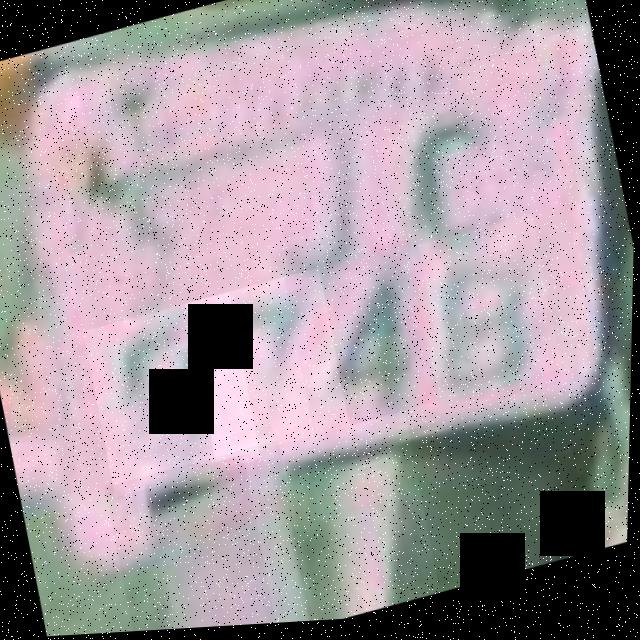4: (281, 240, 452, 440)
7: (242, 414, 445, 628), (104, 442, 319, 635), (82, 293, 265, 500), (184, 269, 354, 466)
8: (409, 219, 567, 409)
A: (298, 249, 430, 425)
P: (66, 154, 232, 350)
